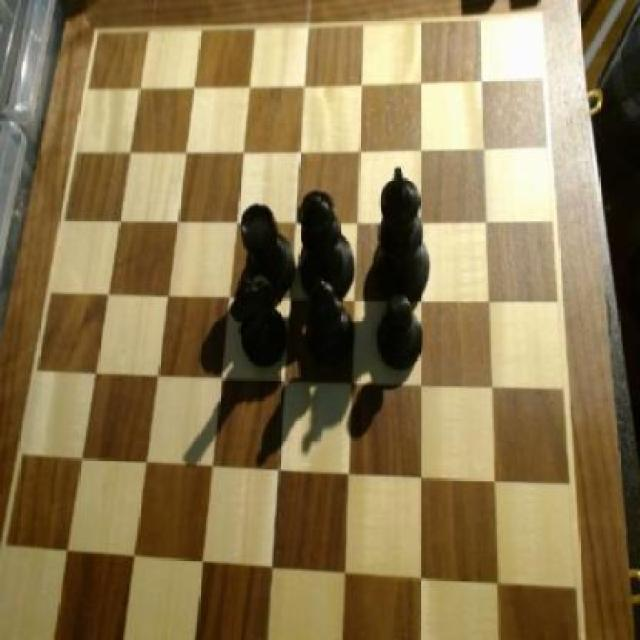bishop: (304, 271, 366, 365)
black-bishop: (374, 169, 434, 296)
black-king: (235, 272, 293, 373)
black-knight: (378, 289, 428, 371)
black-pawn: (296, 186, 360, 299)
black-queen: (240, 200, 295, 303)
